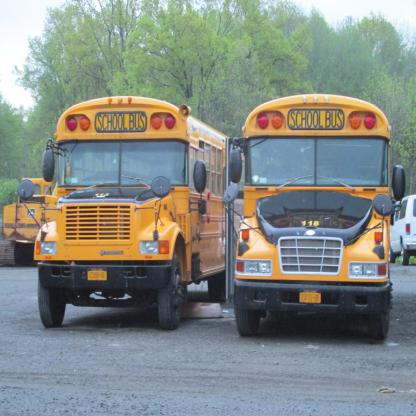Bus: (16, 96, 246, 328), (225, 95, 407, 336), (2, 178, 90, 249)
